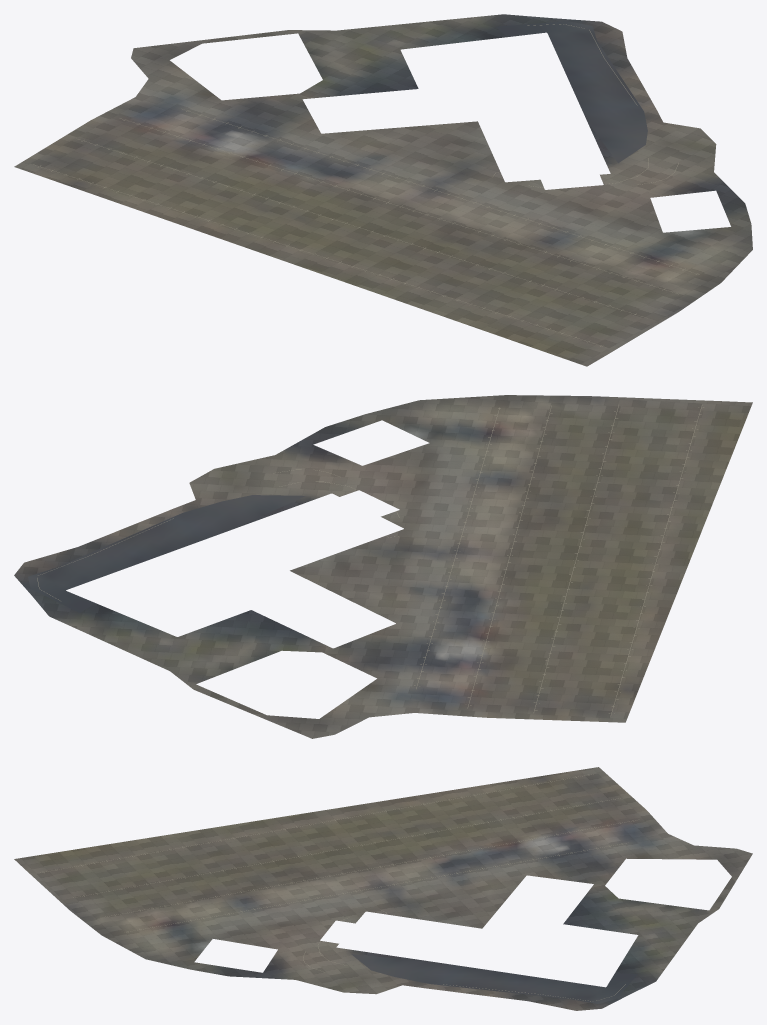
3 views of the same model, one above another, from view 1: azimuth 30°, elevation 25°; view 2: azimuth 150°, elevation 25°; view 3: azimuth 270°, elevation 25° (orthographic). The views are drawn at different scales.
Visible parts, largest first — view 1: concrete, asphalt, South court faded guides; view 2: concrete, asphalt, South court faded guides; view 3: concrete, asphalt, South court faded guides.
Boxes of the visible parts, left/top/right/bottom form: concrete: left=14, top=14, right=752, bottom=366; asphalt: left=496, top=21, right=647, bottom=163; South court faded guides: left=33, top=24, right=699, bottom=346; concrete: left=14, top=395, right=752, bottom=738; asphalt: left=28, top=495, right=304, bottom=612; South court faded guides: left=37, top=405, right=703, bottom=716; concrete: left=14, top=767, right=752, bottom=1010; asphalt: left=351, top=954, right=637, bottom=1003; South court faded guides: left=40, top=774, right=635, bottom=1001.
Bounding box in the file's own units: 256 × 0.07 × 327.
3 materials, 3 textured.
